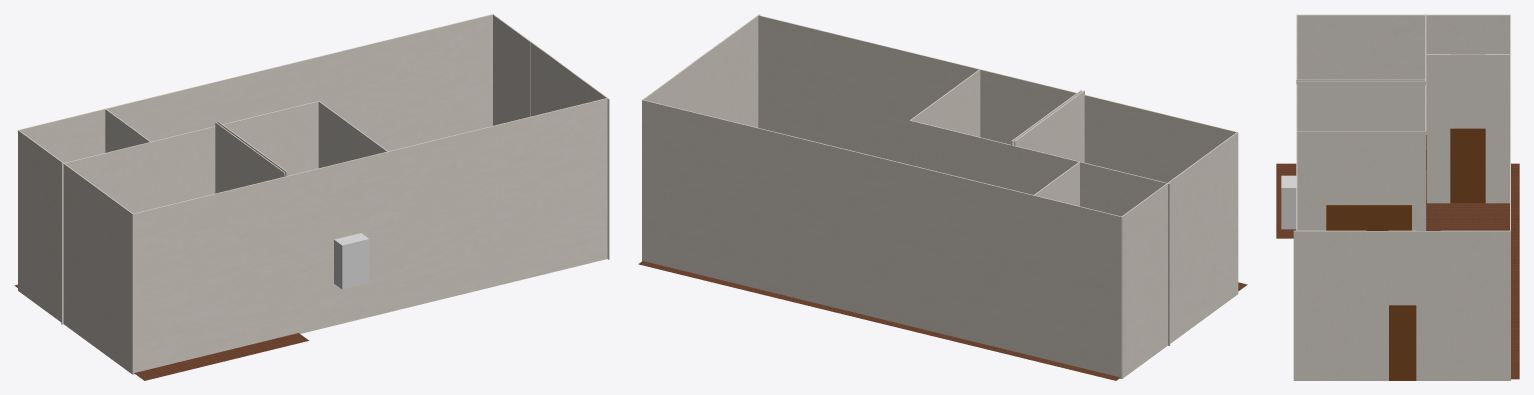
Rendered from MODEL_house.fbx.
The picture shows the model from 3 angles, left to right: view 1: azimuth 30°, elevation 25°; view 2: azimuth 150°, elevation 25°; view 3: azimuth 270°, elevation 25°; orthographic projection. The views are drawn at different scales.
Visible parts, largest first — view 1: Cube.006, Cube.014, Cube.003, Cube.012, Cube.004, Cube.011, Cube.026, Cube.010, Floor, Cube.037, Cube.015; view 2: Cube.014, Cube.006, Cube.003, Cube.004, Cube.012, Cube.011, Cube.026, Cube.010, Floor, Cube.015; view 3: Cube.004, Cube.003, Cube.010, Cube.015, Cube.023, Floor, Cube.039, Cube.013, Cube.001, Cube.037, Cube.006, Cube.014 (+1 smaller).
Part boxes in pixels (x1=…): Cube.006: x1=133, y1=98, x2=607, y2=374; Cube.014: x1=18, y1=14, x2=493, y2=162; Cube.003: x1=18, y1=130, x2=133, y2=374; Cube.012: x1=61, y1=126, x2=215, y2=324; Cube.004: x1=493, y1=14, x2=609, y2=259; Cube.011: x1=223, y1=101, x2=318, y2=175; Cube.026: x1=215, y1=122, x2=285, y2=193; Cube.010: x1=318, y1=101, x2=387, y2=168; Floor: x1=14, y1=284, x2=308, y2=380; Cube.037: x1=334, y1=233, x2=369, y2=289; Cube.015: x1=105, y1=109, x2=150, y2=152; Cube.014: x1=642, y1=99, x2=1121, y2=378; Cube.006: x1=758, y1=15, x2=1237, y2=182; Cube.003: x1=1122, y1=132, x2=1238, y2=378; Cube.004: x1=643, y1=14, x2=760, y2=127; Cube.012: x1=1012, y1=145, x2=1170, y2=345; Cube.011: x1=910, y1=120, x2=1012, y2=189; Cube.026: x1=1014, y1=90, x2=1084, y2=162; Cube.010: x1=909, y1=69, x2=980, y2=164; Floor: x1=638, y1=261, x2=1247, y2=380; Cube.015: x1=1034, y1=162, x2=1079, y2=206; Cube.004: x1=1293, y1=230, x2=1509, y2=380; Cube.003: x1=1296, y1=14, x2=1509, y2=79; Cube.010: x1=1297, y1=131, x2=1426, y2=230; Cube.015: x1=1426, y1=54, x2=1509, y2=203; Cube.023: x1=1297, y1=81, x2=1425, y2=130; Floor: x1=1276, y1=163, x2=1519, y2=379; Cube.039: x1=1450, y1=128, x2=1485, y2=202; Cube.013: x1=1326, y1=205, x2=1411, y2=230; Cube.001: x1=1389, y1=305, x2=1416, y2=380; Cube.037: x1=1281, y1=175, x2=1296, y2=229; Cube.006: x1=1296, y1=15, x2=1297, y2=380; Cube.014: x1=1510, y1=15, x2=1510, y2=380.
Size of the model in its own units: 18392 by 6073 by 8699.
